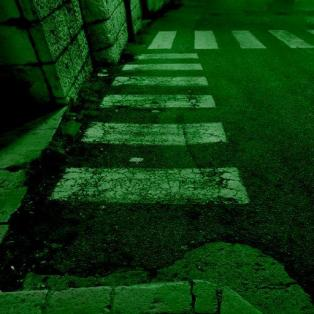Paso de Cebra: (73, 90, 234, 154), (115, 51, 208, 73)
